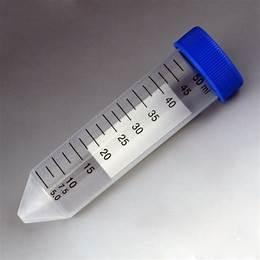Test tube: (16, 23, 245, 243)
